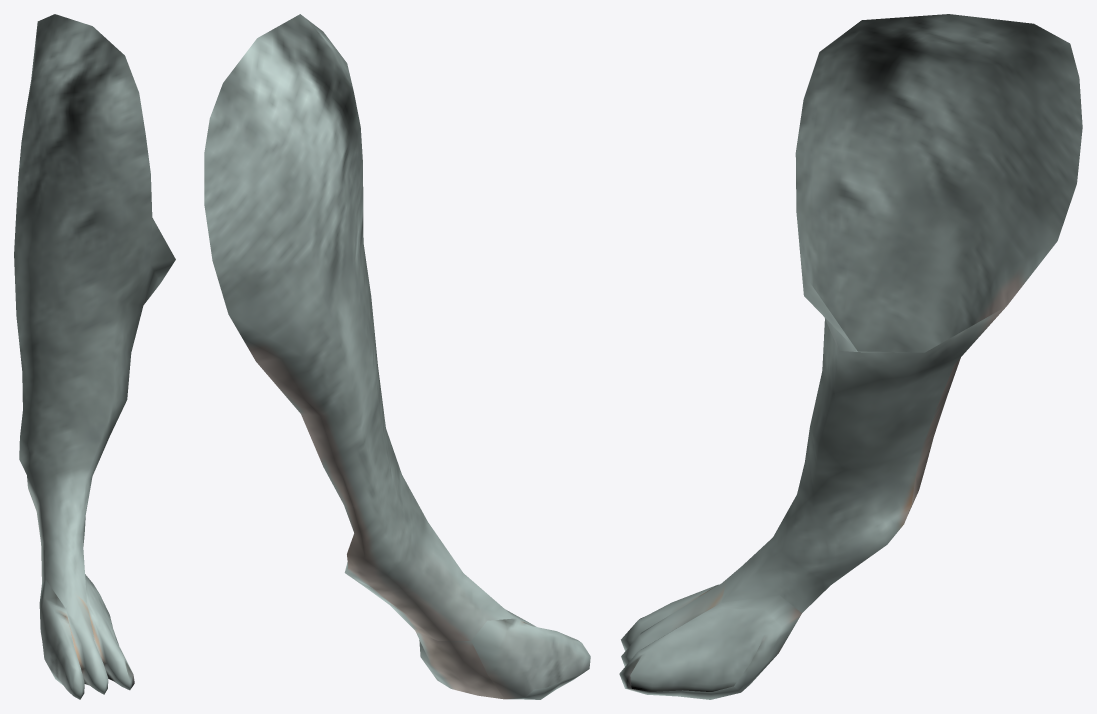
The model's file is Lpatafd.obj.
The picture shows the model from 3 angles, left to right: view 1: azimuth 30°, elevation 25°; view 2: azimuth 150°, elevation 25°; view 3: azimuth 270°, elevation 25°; orthographic projection. The views are drawn at different scales.
Parts seen in each view (by area): view 1: Cube.001; view 2: Cube.001; view 3: Cube.001.
Part boxes in pixels (x1,y1,x2,y2): Cube.001: (14,14,175,699); Cube.001: (204,14,590,699); Cube.001: (619,14,1082,699).
Size of the model in its own units: 0.1923 by 0.5869 by 0.3362.
1 material, 1 textured.
